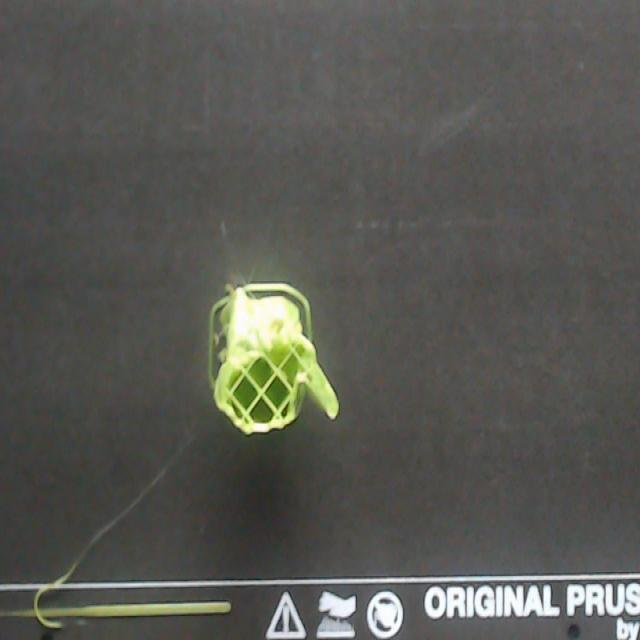mistake: (31, 468, 167, 629), (298, 373, 309, 386), (224, 284, 234, 294)
